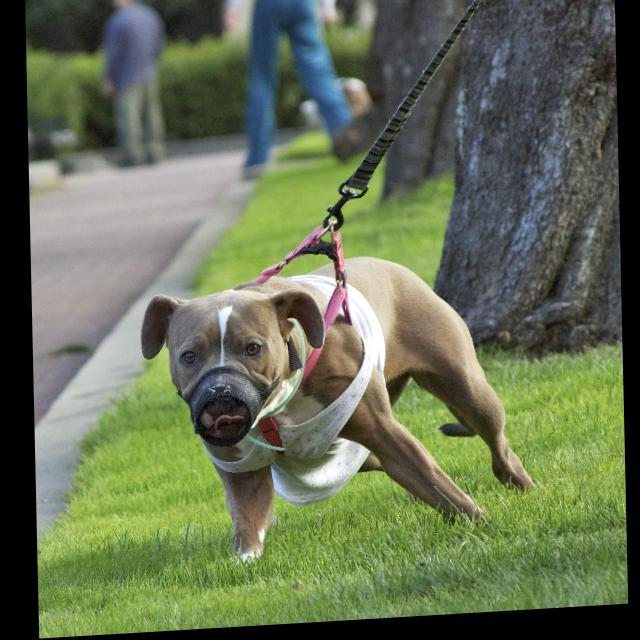am_pit_bull_terrier: (140, 253, 537, 574)
